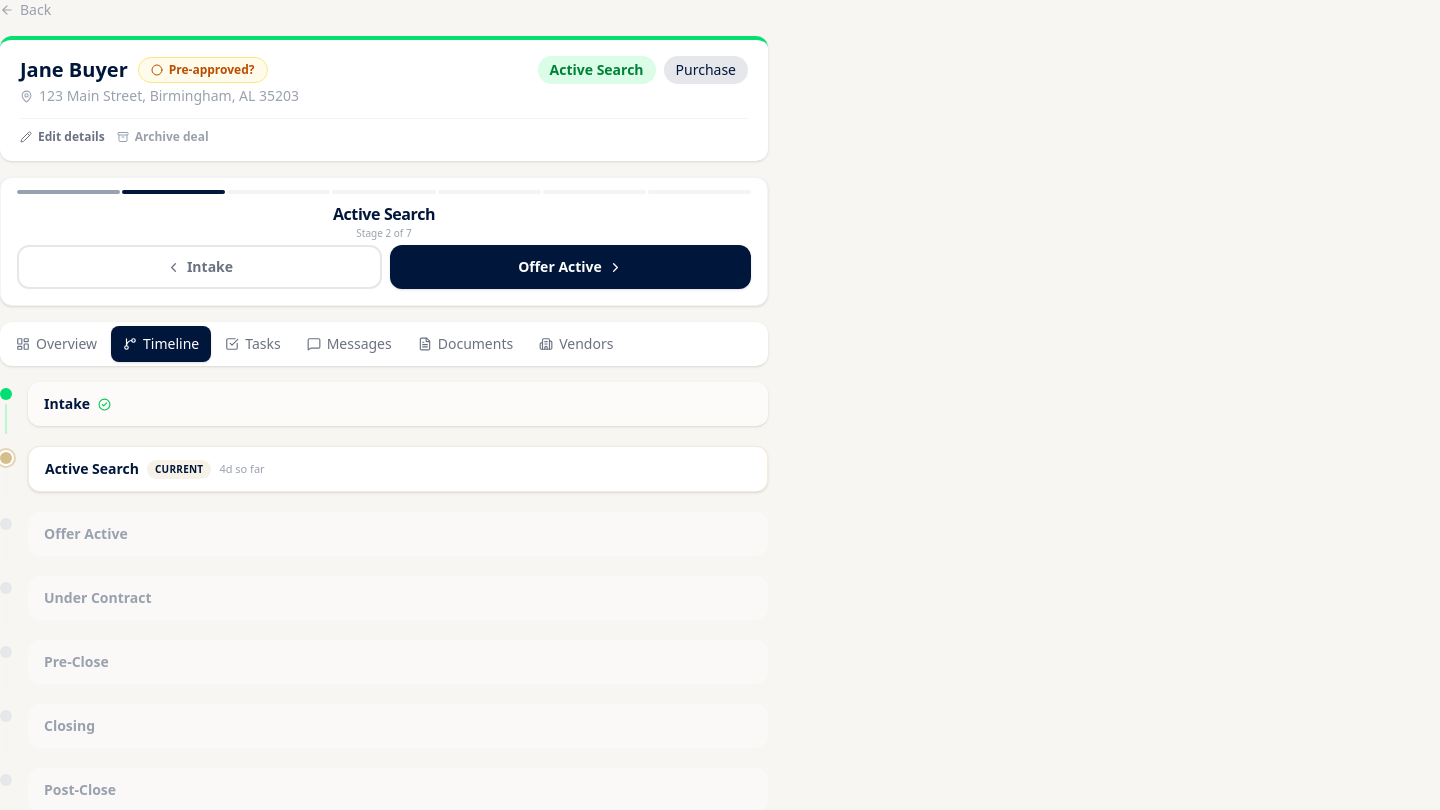
Test: Stage advance posts the drafted client message (#185) › a failed message send never breaks the advance and surfaces a warning
Click the button "Offer Active".
click(570, 267)  # box left=390, top=245, right=751, bottom=289
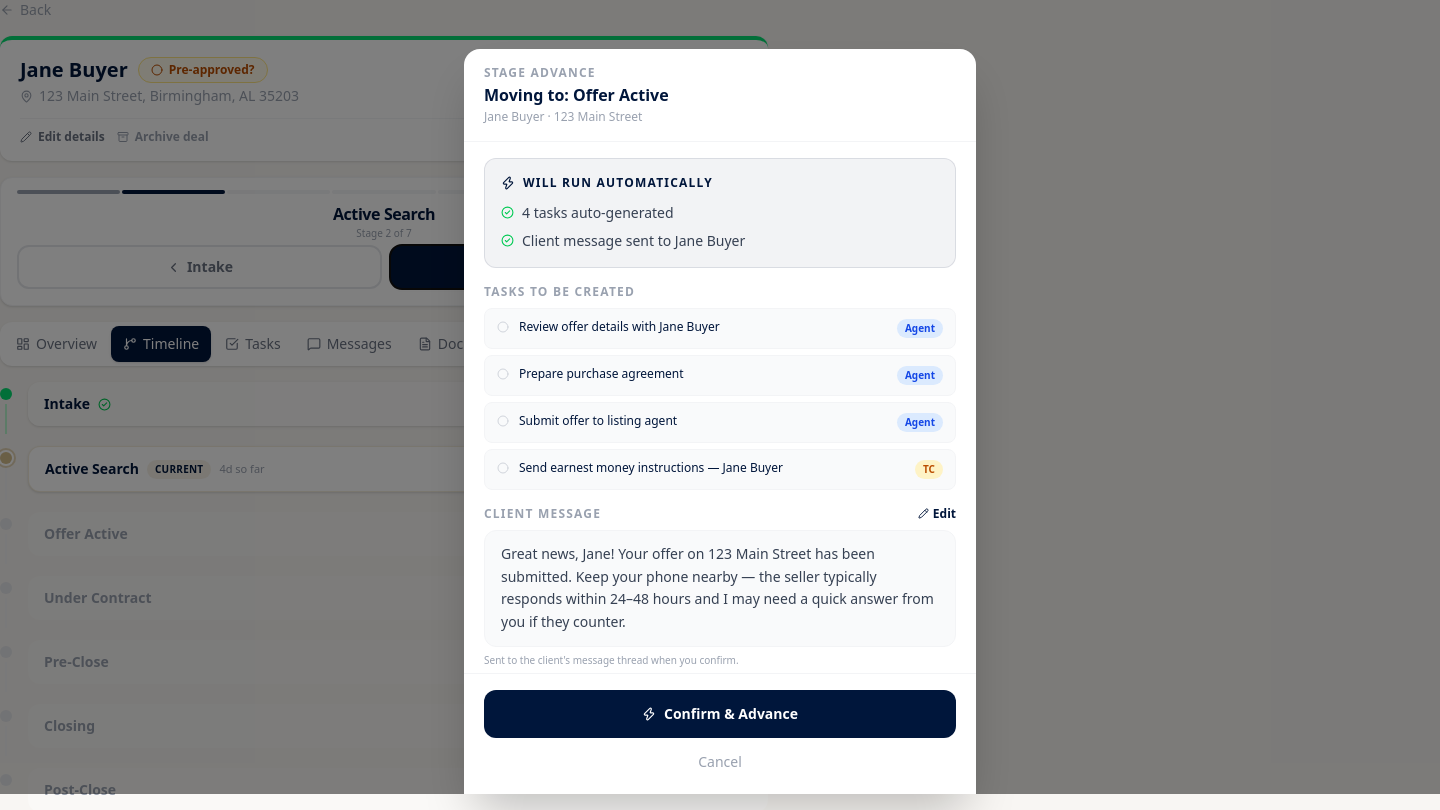
Now the button "Confirm & Advance" is shown
Click the button "Confirm & Advance".
click(720, 714)  # box left=484, top=690, right=956, bottom=738
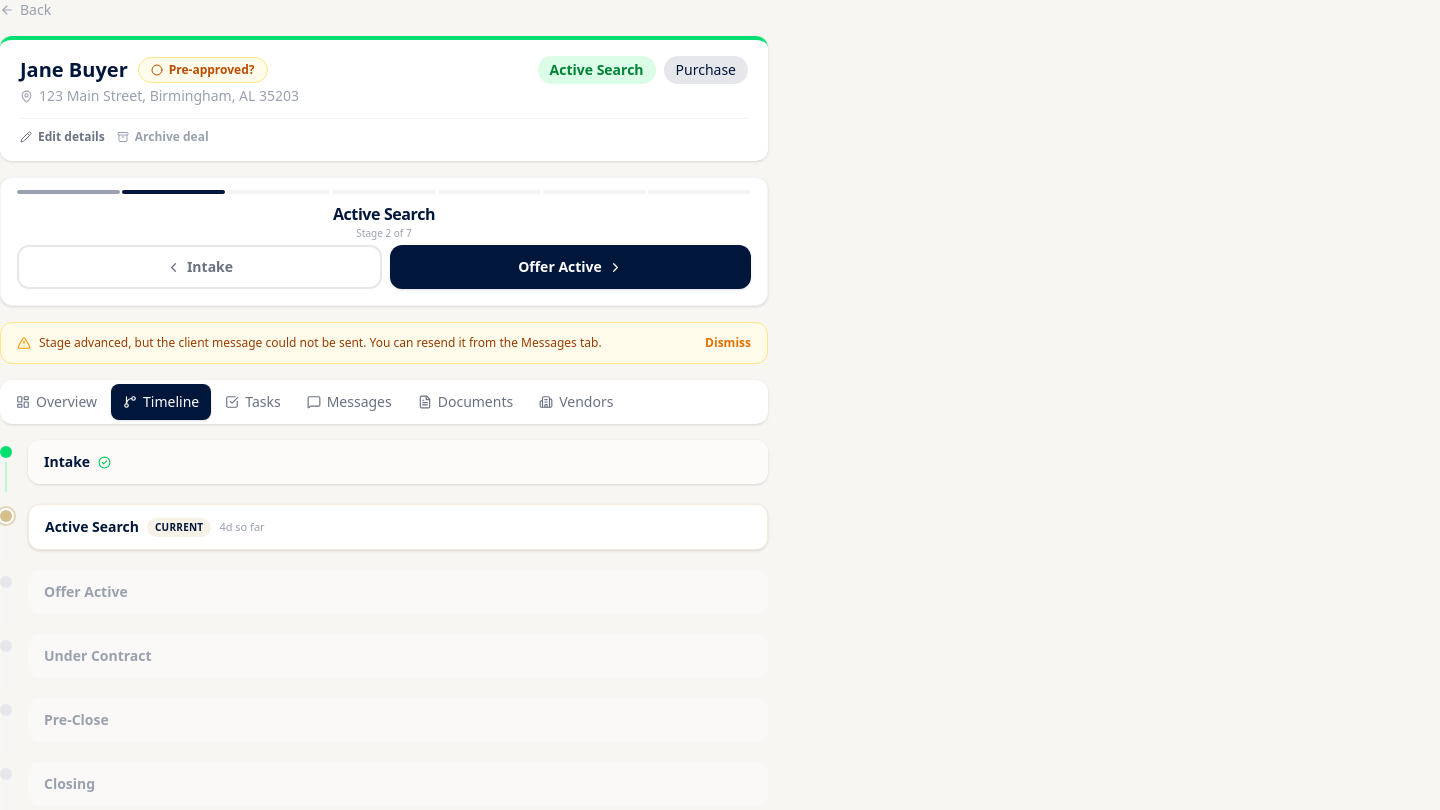
Now the button "Confirm & Advance" is gone
Now the text "client message could not be sent" is shown, box left=39, top=334, right=602, bottom=351
